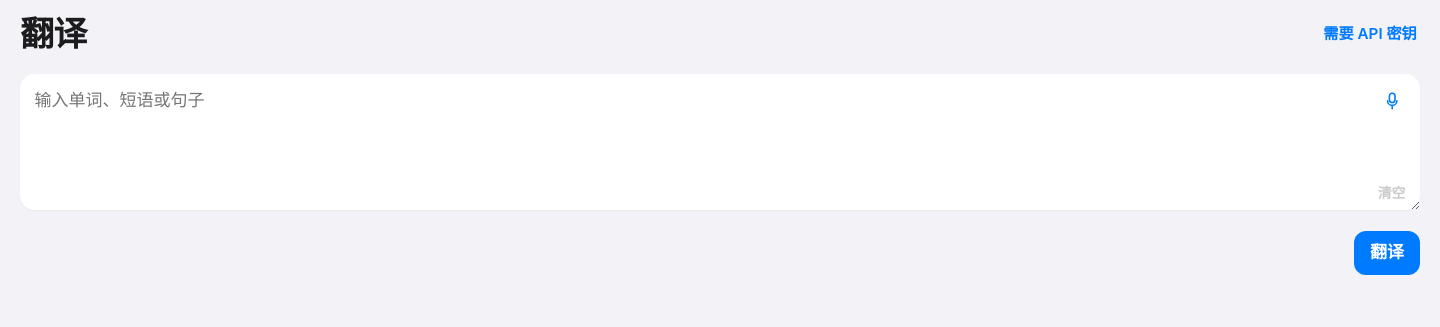
Test: TranslatePage › opens settings when the key is missing
This screenshot has width=1440, height=327.
Click the button "需要 API 密钥" at (1370, 34), box [1320,12,1420,56]
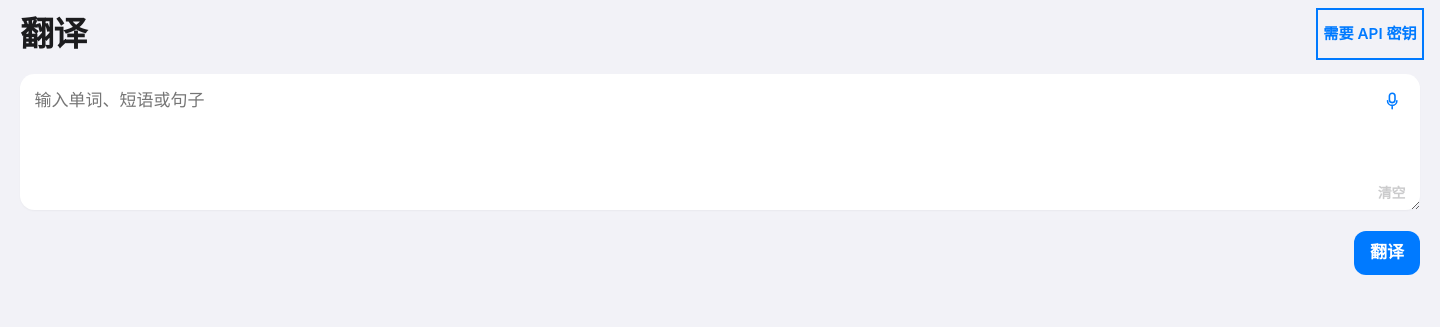
Type "Hello, world" into the text box named "翻译内容" at (720, 142), box [20,74,1420,210]
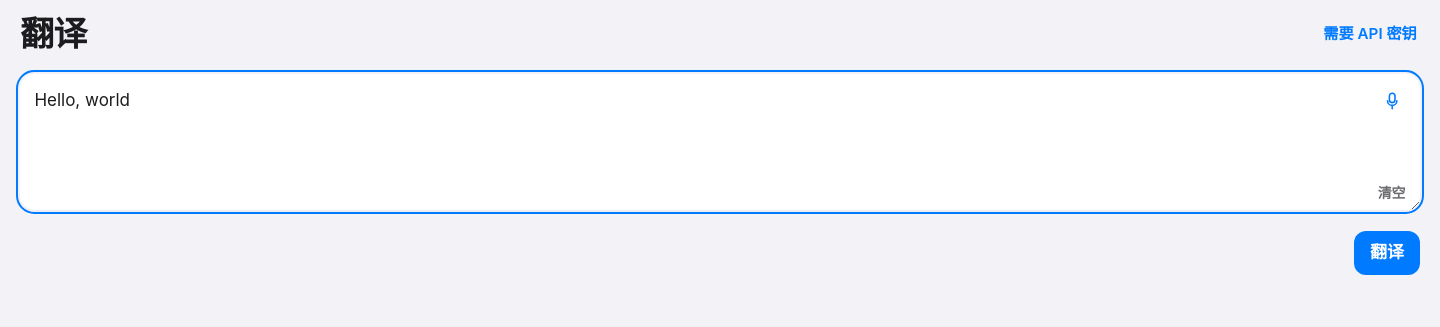
Click the button "翻译" at (1387, 253), box [1354,231,1420,275]
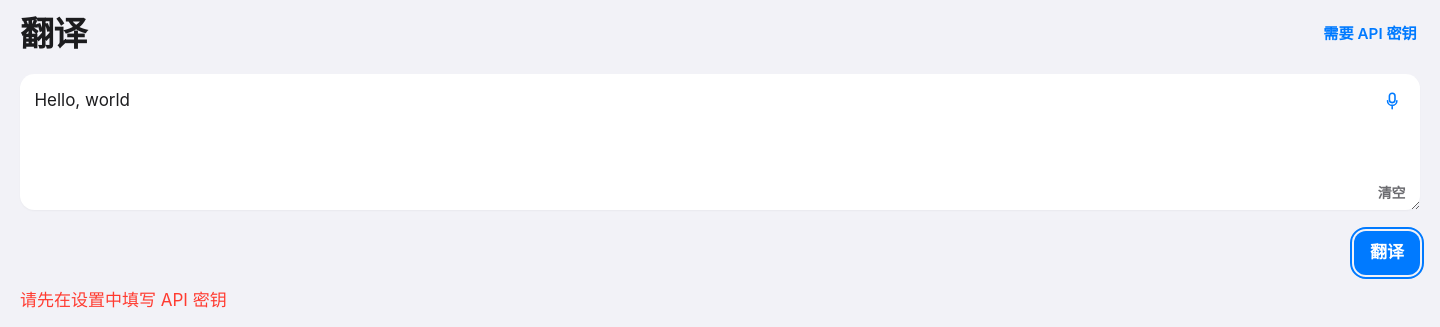
expect the message reads "请先在设置中填写 API 密钥": met, box [20,290,227,310]
